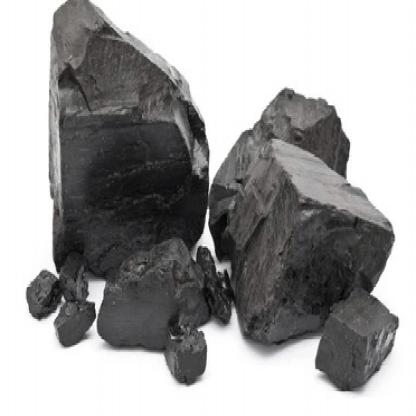Sedimentary_coal: (40, 0, 211, 288), (220, 62, 362, 260), (314, 284, 406, 394), (158, 314, 214, 386)
